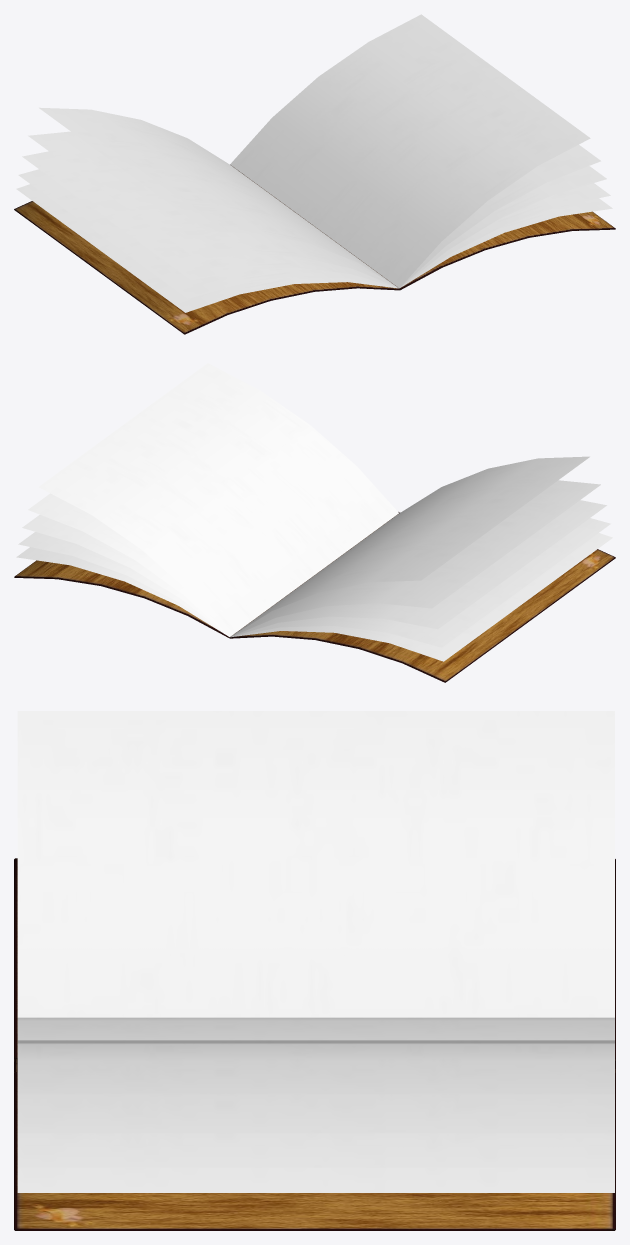
File: note.FBX
3 renders of one model, top to bottom at view 1: azimuth 30°, elevation 25°; view 2: azimuth 150°, elevation 25°; view 3: azimuth 270°, elevation 25°, orthographic. The views are drawn at different scales.
Parts seen in each view (by area): view 1: Plane005, Plane010, Plane009, Plane008, ChamferBox002, Plane007, Plane006, Plane004, ChamferBox001, Plane003, Plane002, Plane001; view 2: Plane005, Plane010, Plane009, Plane008, ChamferBox002, Plane007, Plane006, Plane004, ChamferBox001, Plane003, Plane002, Plane001; view 3: Plane010, Plane004, Plane003, ChamferBox001, Plane002, Plane005, Plane001, ChamferBox002.
Part boxes in pixels (x1,y1,x2,y2): Plane005: (230,14,590,288); Plane010: (39,107,397,287); Plane009: (28,131,397,287); Plane008: (22,151,396,287); ChamferBox002: (14,201,400,334); Plane007: (18,169,397,298); Plane006: (16,184,396,312); Plane004: (400,144,600,287); ChamferBox001: (231,165,615,290); Plane003: (401,166,606,286); Plane002: (402,183,610,286); Plane001: (402,198,612,286); Plane005: (39,363,398,636); Plane010: (232,456,589,635); Plane009: (231,480,600,636); Plane008: (232,500,606,636); ChamferBox002: (230,549,615,682); Plane007: (232,518,610,647); Plane006: (231,533,612,661); Plane004: (28,493,227,635); ChamferBox001: (14,512,399,638); Plane003: (22,515,228,636); Plane002: (18,532,227,635); Plane001: (16,547,225,634); Plane010: (17,711,614,1017); Plane004: (17,1043,614,1094); Plane003: (17,1094,614,1133); ChamferBox001: (14,1058,615,1230); Plane002: (17,1133,614,1167); Plane005: (17,1017,614,1043); Plane001: (17,1167,614,1192); ChamferBox002: (14,858,615,1058).
Size of the model in its own units: 155 by 106 by 35.91.
Materials: 2 (2 with a texture image).
